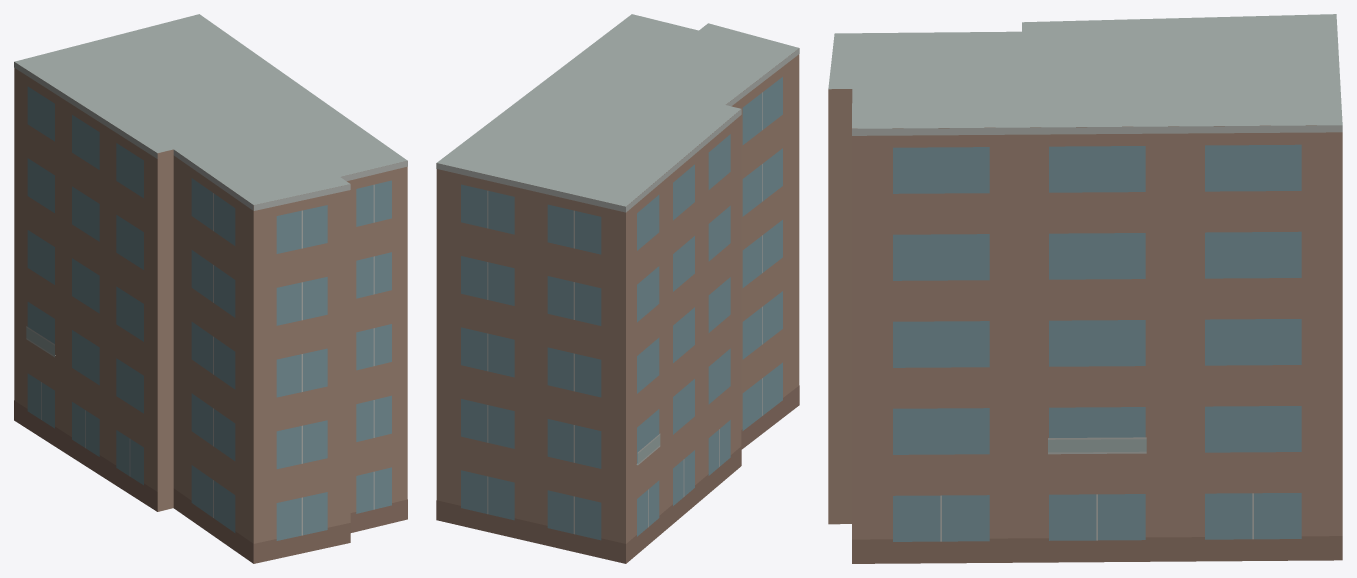
File: survey-upis-32724993.glb
The picture shows the model from 3 angles, left to right: view 1: azimuth 30°, elevation 25°; view 2: azimuth 150°, elevation 25°; view 3: azimuth 270°, elevation 25°; orthographic projection. The views are drawn at different scales.
Parts seen in each view (by area): view 1: survey-upis-32724993.tmp; view 2: survey-upis-32724993.tmp; view 3: survey-upis-32724993.tmp.
Part boxes in pixels (x1=…): survey-upis-32724993.tmp: x1=14, y1=14, x2=407, y2=563; survey-upis-32724993.tmp: x1=436, y1=14, x2=799, y2=563; survey-upis-32724993.tmp: x1=828, y1=14, x2=1342, y2=563.
Size of the model in its own units: 8.37 by 14.78 by 15.85.
